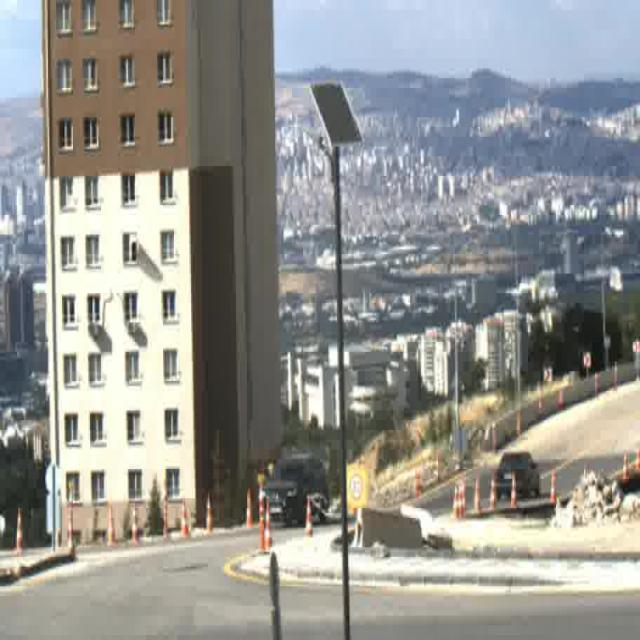Car: (265, 454, 328, 524), (496, 451, 540, 499)
